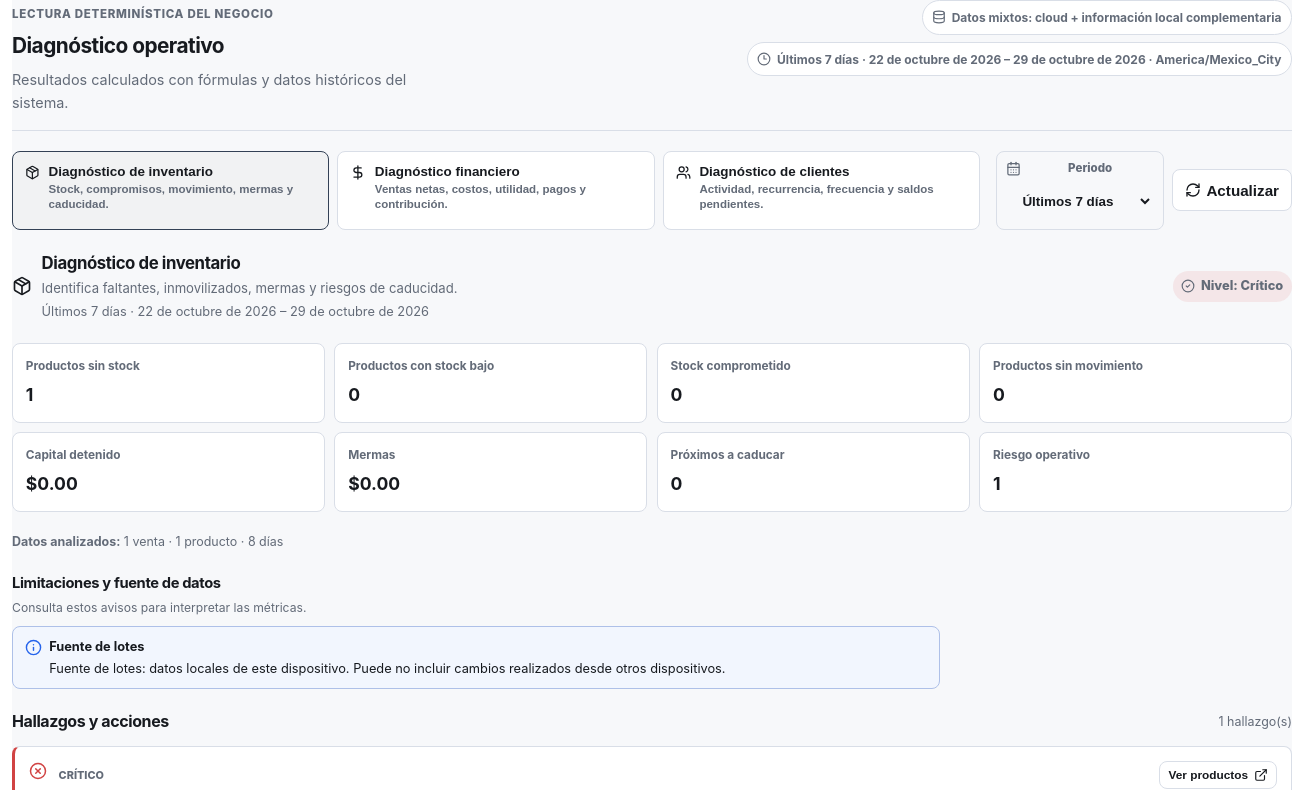
it: OperationalDiagnostics › renders inventory and financial findings as readable values instead of JSON
Expected: the text "Productos sin stock" is shown, [26,359,140,373]
Expected: the text "Datos mixtos: cloud + información local complementaria" is shown, [922,0,1292,35]
Click the tab "Diagnóstico financiero".
click(496, 190)  # box [337,151,655,230]
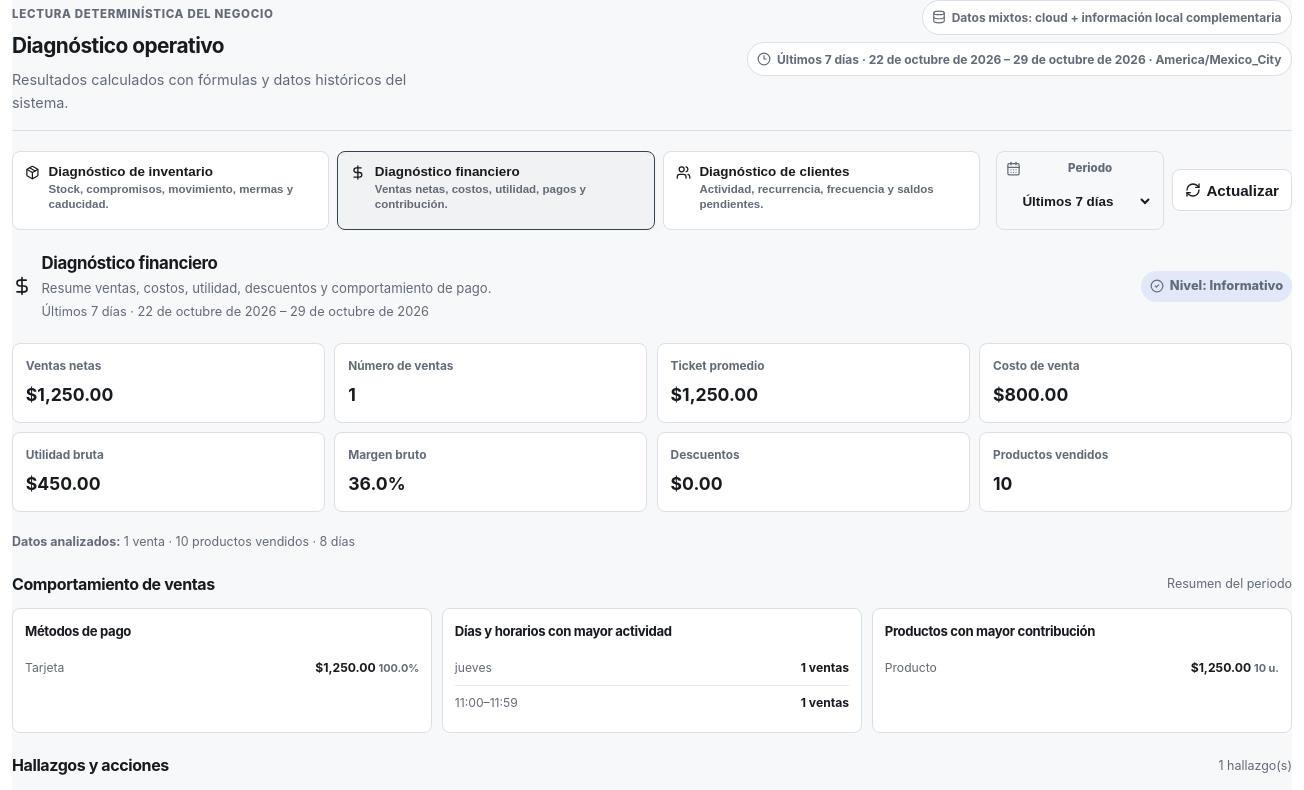
Expected: the 1st text "$1,250.00" is shown, [26,384,113,405]
Expected: the text "Margen bruto" is shown, [348,448,426,462]
Expected: the text "36.0%" is shown, [348,473,406,494]
